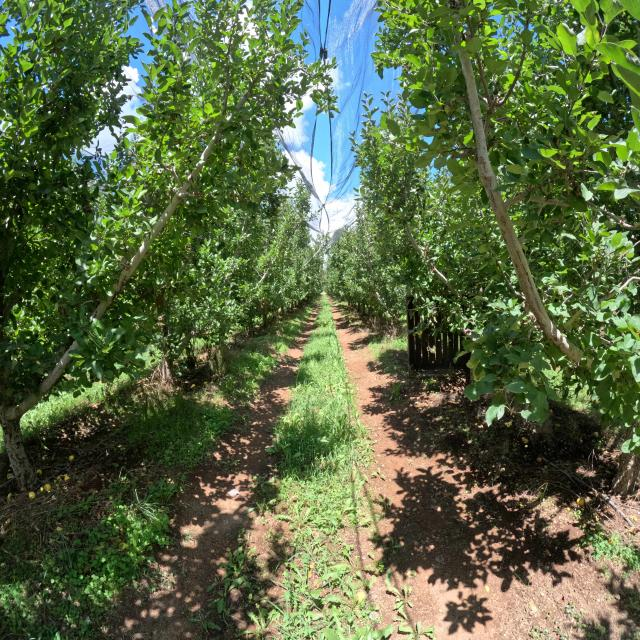-FireBlight-: (232, 194, 237, 202)
